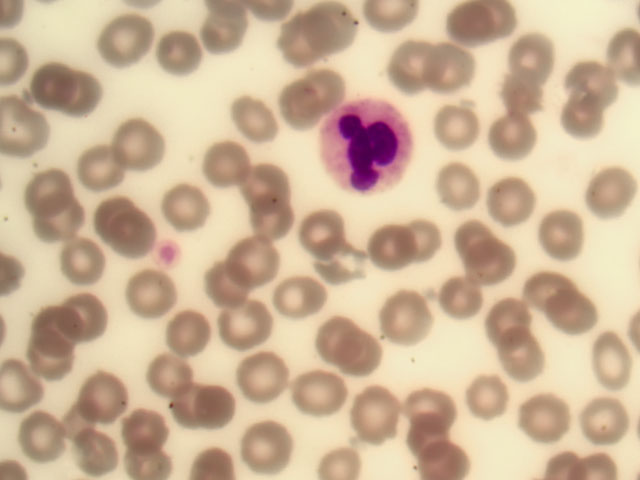Platelets: (154, 243, 178, 262)
RBC: (100, 14, 156, 69), (157, 33, 213, 88), (199, 7, 255, 62), (260, 21, 316, 76), (298, 6, 354, 61), (305, 53, 361, 108), (271, 78, 327, 133), (222, 88, 278, 143), (198, 138, 254, 193), (234, 153, 290, 208), (248, 190, 304, 245), (160, 182, 216, 237), (117, 121, 173, 176), (71, 142, 127, 197), (24, 157, 80, 212), (32, 198, 88, 253), (50, 237, 106, 292), (82, 187, 138, 242), (96, 205, 152, 260), (63, 290, 119, 345), (25, 301, 81, 356), (25, 337, 81, 392), (6, 362, 62, 417), (17, 410, 73, 465), (44, 393, 100, 448), (70, 367, 126, 422), (71, 425, 127, 480), (123, 397, 179, 452), (178, 381, 234, 436), (144, 344, 200, 399), (165, 307, 221, 362), (124, 269, 180, 324), (192, 254, 248, 309), (226, 234, 282, 289), (219, 296, 275, 351), (237, 350, 293, 405), (241, 424, 297, 479), (284, 364, 340, 419), (300, 309, 356, 364), (330, 323, 386, 378), (273, 272, 329, 327), (308, 237, 364, 292), (304, 210, 360, 265), (361, 223, 417, 278), (390, 212, 446, 267), (438, 159, 494, 214), (478, 173, 534, 228), (438, 205, 494, 260), (462, 234, 518, 289), (432, 272, 488, 327), (379, 290, 435, 345), (404, 375, 460, 430), (353, 386, 409, 441), (396, 408, 452, 463), (417, 425, 473, 480), (463, 376, 519, 431), (495, 336, 551, 391), (487, 290, 543, 345), (525, 264, 581, 319), (545, 284, 601, 339), (545, 208, 601, 263), (584, 164, 640, 219), (494, 114, 550, 169), (494, 71, 550, 126), (503, 37, 559, 92), (426, 39, 482, 94), (387, 38, 443, 93), (447, 7, 503, 62), (563, 54, 619, 109), (558, 86, 614, 141), (437, 105, 493, 160), (577, 391, 633, 446), (519, 387, 575, 442), (578, 333, 634, 388), (28, 61, 75, 109), (57, 71, 104, 119)
WBC: (320, 99, 416, 191)
